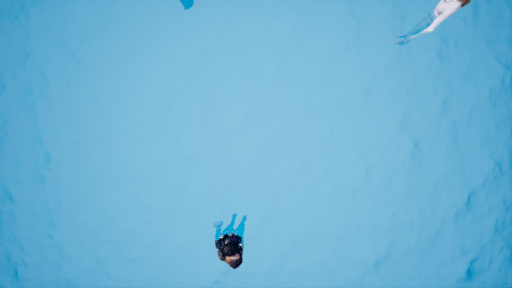person: (393, 1, 481, 56), (203, 210, 258, 269)
